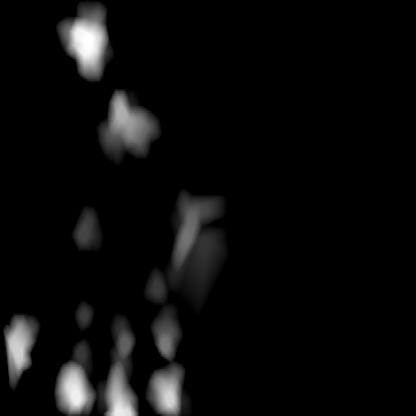fingers: (59, 5, 109, 79)
palm: (0, 298, 183, 414)
thumb: (70, 90, 220, 292)
